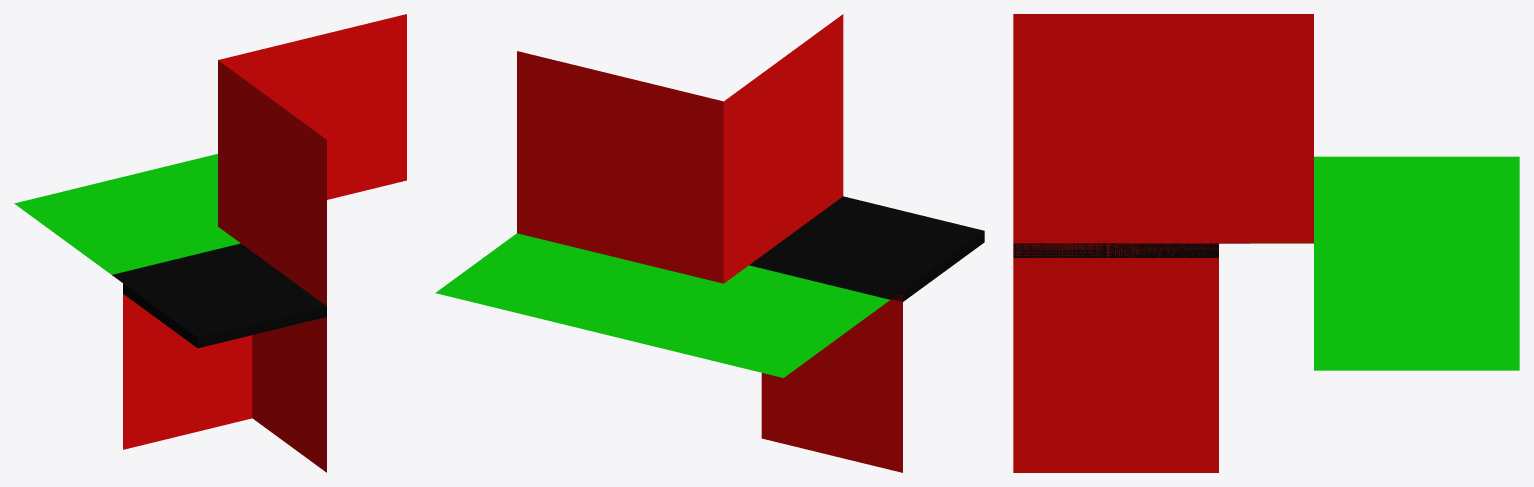
3 views of the same model, side by side, from view 1: azimuth 30°, elevation 25°; view 2: azimuth 150°, elevation 25°; view 3: azimuth 270°, elevation 25° (orthographic). The views are drawn at different scales.
Parts seen in each view (by area): view 1: None_W_A_E_A_W_P_E_E_None; view 2: None_W_A_E_A_W_P_E_E_None; view 3: None_W_A_E_A_W_P_E_E_None.
Boxes of the visible parts, bbox=[...] form: None_W_A_E_A_W_P_E_E_None: bbox=[14, 14, 406, 472]; None_W_A_E_A_W_P_E_E_None: bbox=[435, 14, 984, 472]; None_W_A_E_A_W_P_E_E_None: bbox=[1013, 14, 1519, 472].
Size of the model in its own units: 100 by 100 by 100.
